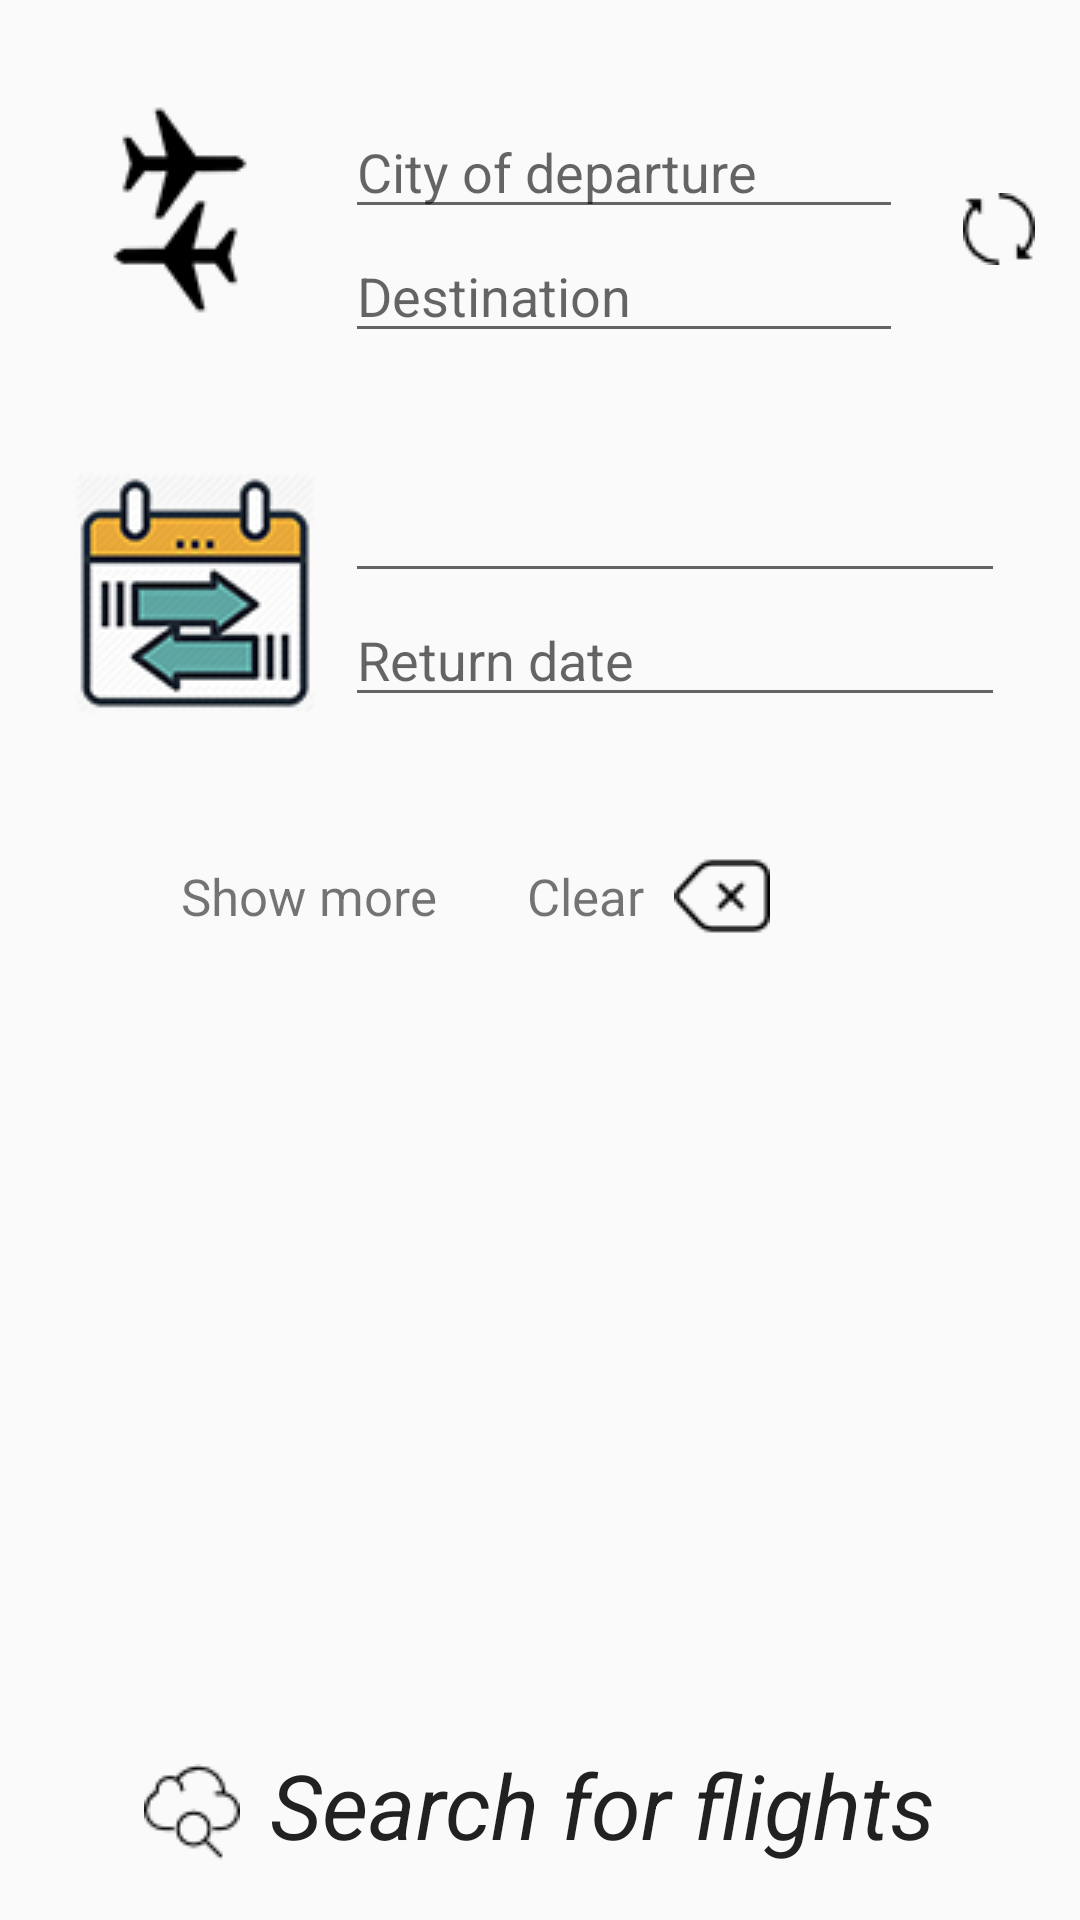

Icon bounding boxes for this 1080px x 1920px phone screenshot, format rect(x1, y1, x2, y2):
delete: rect(674, 859, 770, 933)
flight: rect(113, 107, 247, 313)
refresh: rect(963, 193, 1035, 265)
trip: rect(80, 478, 310, 708)
